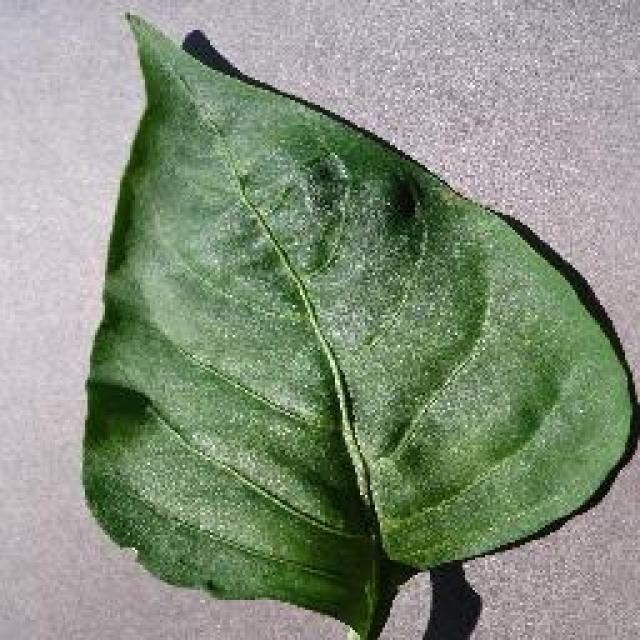Chilli_Healthy: (78, 10, 638, 638)
